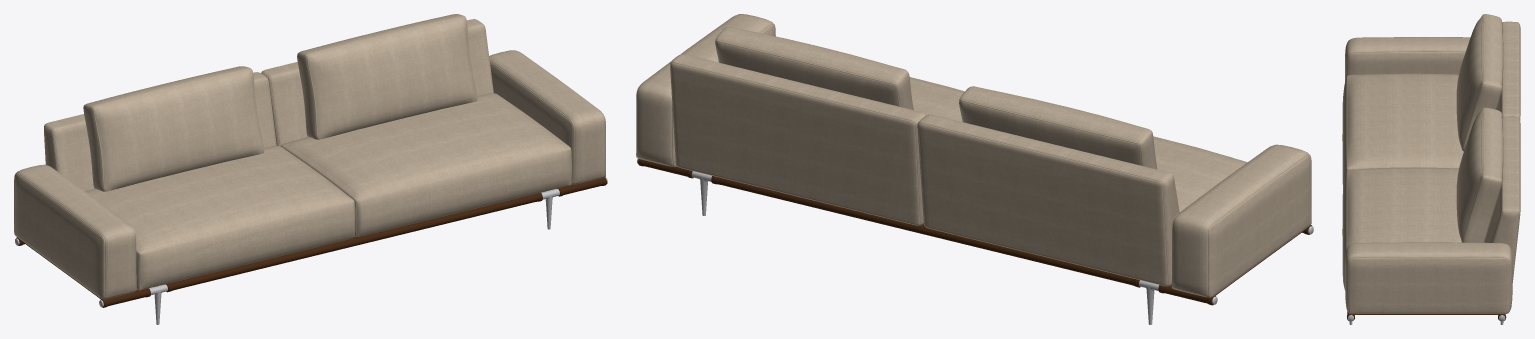
Rendered from SK_MILOS_2_SEATS_2_ARMIES_SECTIONAL-8d94e024.glb.
The picture shows the model from 3 angles, left to right: view 1: azimuth 30°, elevation 25°; view 2: azimuth 150°, elevation 25°; view 3: azimuth 270°, elevation 25°; orthographic projection. The views are drawn at different scales.
Visible parts, largest first — view 1: assento mod.004, braco modul.001, almofada_milos_b, almofada_milos_a, costas modul.004, base modulo.004, base metal .002; view 2: costas modul.004, braco modul.001, almofada_milos_b, almofada_milos_a, assento mod.004, base modulo.004, base metal .002; view 3: assento mod.004, braco modul.001, almofada_milos_b, costas modul.004, almofada_milos_a, base modulo.004.
Boxes of the visible parts, x1=… form: assento mod.004: x1=86, y1=93, x2=571, y2=290; braco modul.001: x1=14, y1=50, x2=605, y2=299; almofada_milos_b: x1=297, y1=14, x2=477, y2=139; almofada_milos_a: x1=83, y1=66, x2=264, y2=191; costas modul.004: x1=44, y1=19, x2=493, y2=191; base modulo.004: x1=16, y1=177, x2=606, y2=307; base metal .002: x1=15, y1=177, x2=607, y2=324; costas modul.004: x1=670, y1=54, x2=1179, y2=286; braco modul.001: x1=636, y1=14, x2=1311, y2=297; almofada_milos_b: x1=715, y1=27, x2=913, y2=109; almofada_milos_a: x1=959, y1=86, x2=1157, y2=169; assento mod.004: x1=909, y1=77, x2=1247, y2=211; base modulo.004: x1=638, y1=159, x2=1311, y2=305; base metal .002: x1=637, y1=158, x2=1313, y2=324; assento mod.004: x1=1342, y1=73, x2=1463, y2=290; braco modul.001: x1=1345, y1=37, x2=1512, y2=314; almofada_milos_b: x1=1456, y1=107, x2=1503, y2=242; costas modul.004: x1=1484, y1=21, x2=1520, y2=282; almofada_milos_a: x1=1456, y1=14, x2=1503, y2=151; base modulo.004: x1=1347, y1=311, x2=1506, y2=320.
Size of the model in its own units: 2.82 by 0.8607 by 0.9561.
Materials: 4 (2 with a texture image).
